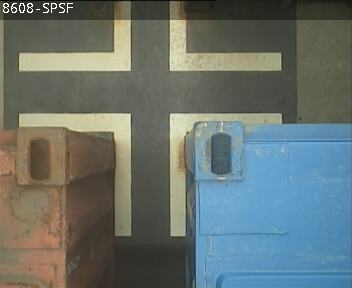groundmarker_1: (18, 111, 278, 236), (18, 1, 282, 71)
